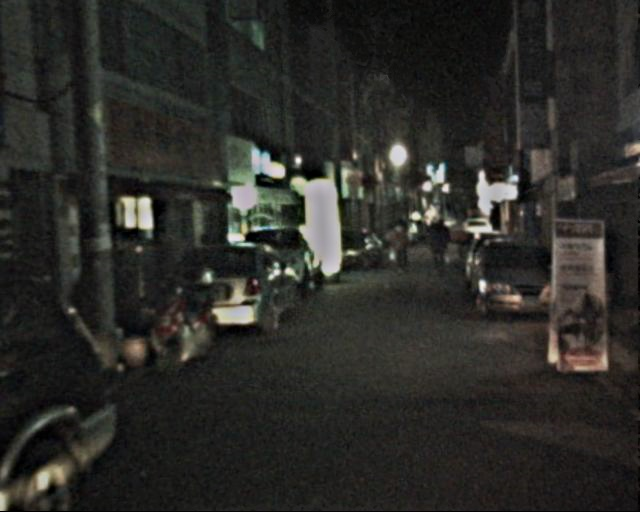person: (431, 219, 456, 279), (390, 221, 414, 279)
